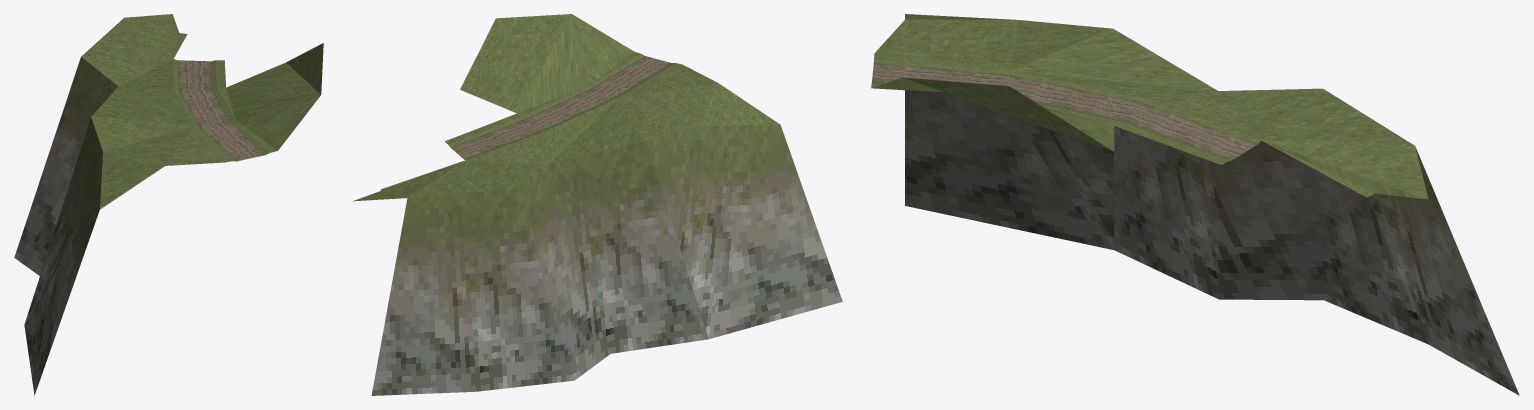
The model's file is nw_lodbit_11.obj.
3 views of the same model, side by side, from view 1: azimuth 30°, elevation 25°; view 2: azimuth 150°, elevation 25°; view 3: azimuth 270°, elevation 25° (orthographic). The views are drawn at different scales.
Visible parts, largest first — view 1: nw_lodbit_11; view 2: nw_lodbit_11; view 3: nw_lodbit_11.
Boxes of the visible parts, x1,y1,x2,y2 form: nw_lodbit_11: [14, 14, 323, 395]; nw_lodbit_11: [353, 14, 842, 395]; nw_lodbit_11: [871, 14, 1519, 395].
Size of the model in its own units: 88.26 by 64.51 by 109.
Materials: 3 (3 with a texture image).
